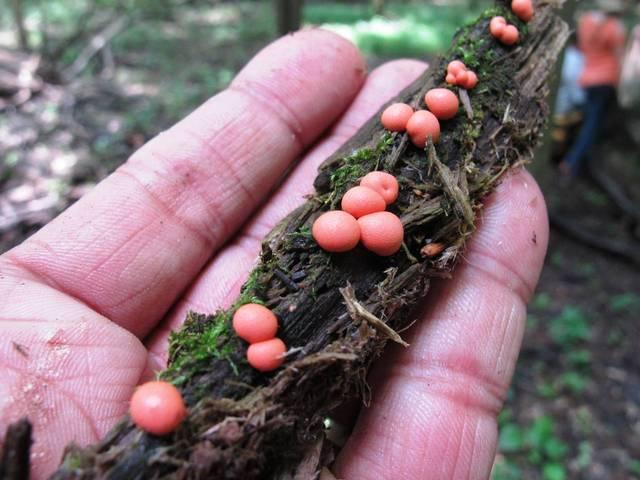poisonous_mushroom: (41, 0, 572, 479), (310, 169, 405, 256), (375, 35, 465, 126), (127, 379, 187, 435), (357, 209, 404, 255), (310, 209, 360, 252), (231, 301, 278, 343)
